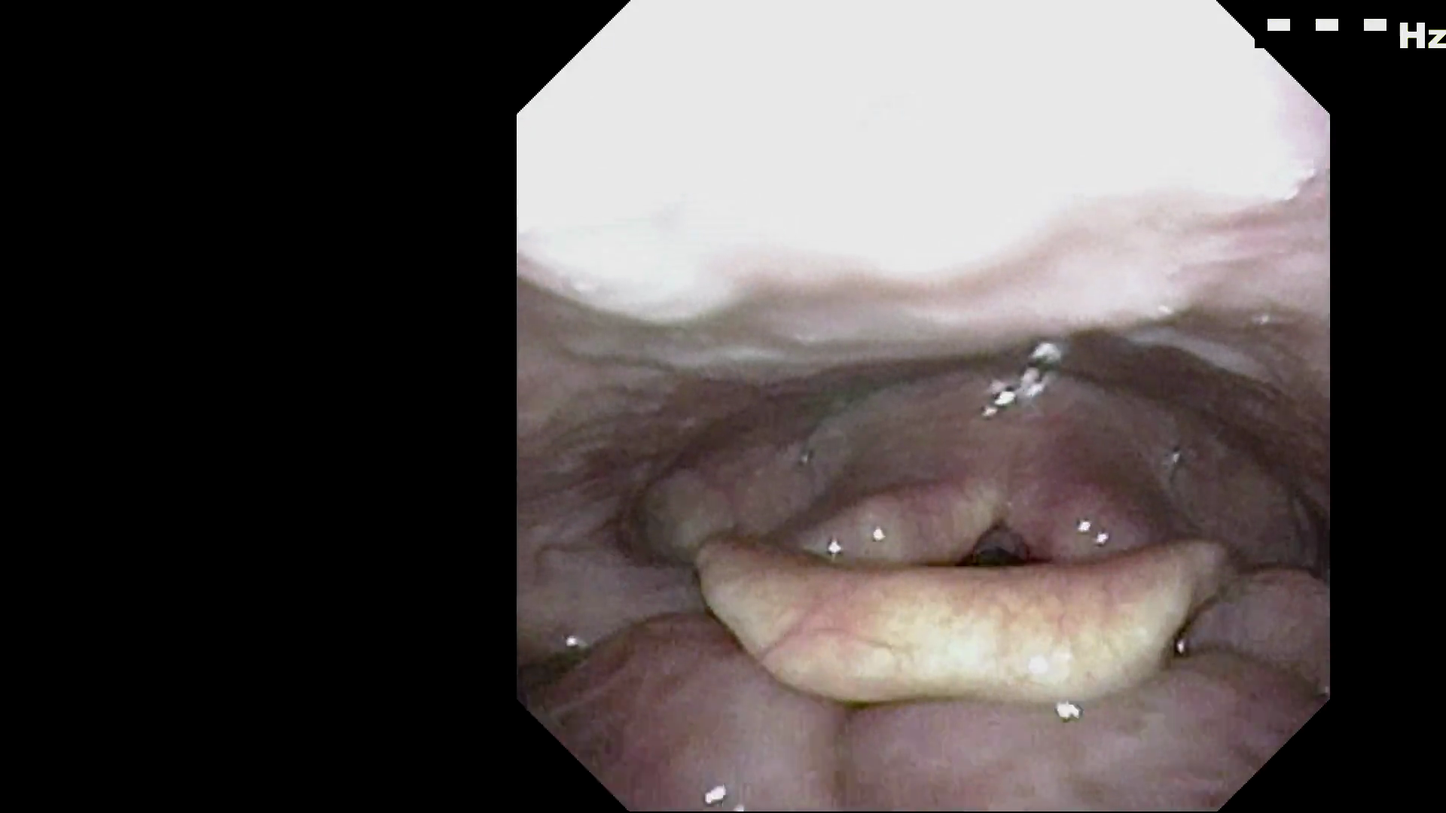epiglottis: (695, 507, 1237, 646)
